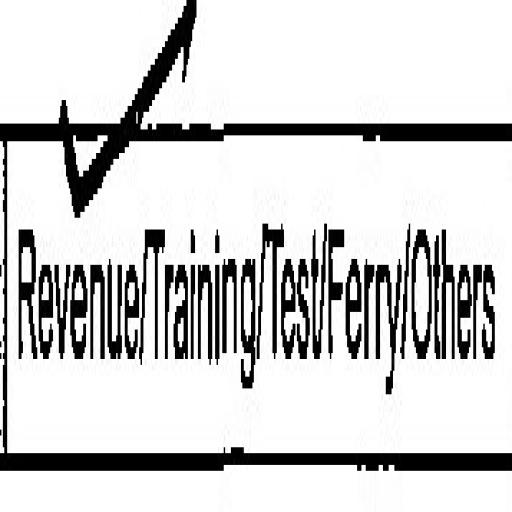check: (4, 0, 144, 486)
